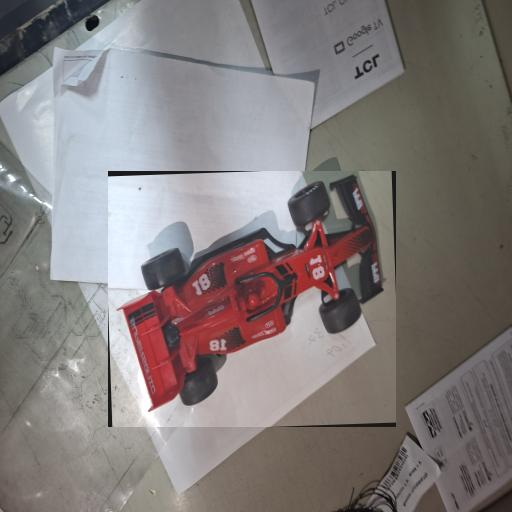carro: (108, 171, 396, 427)
